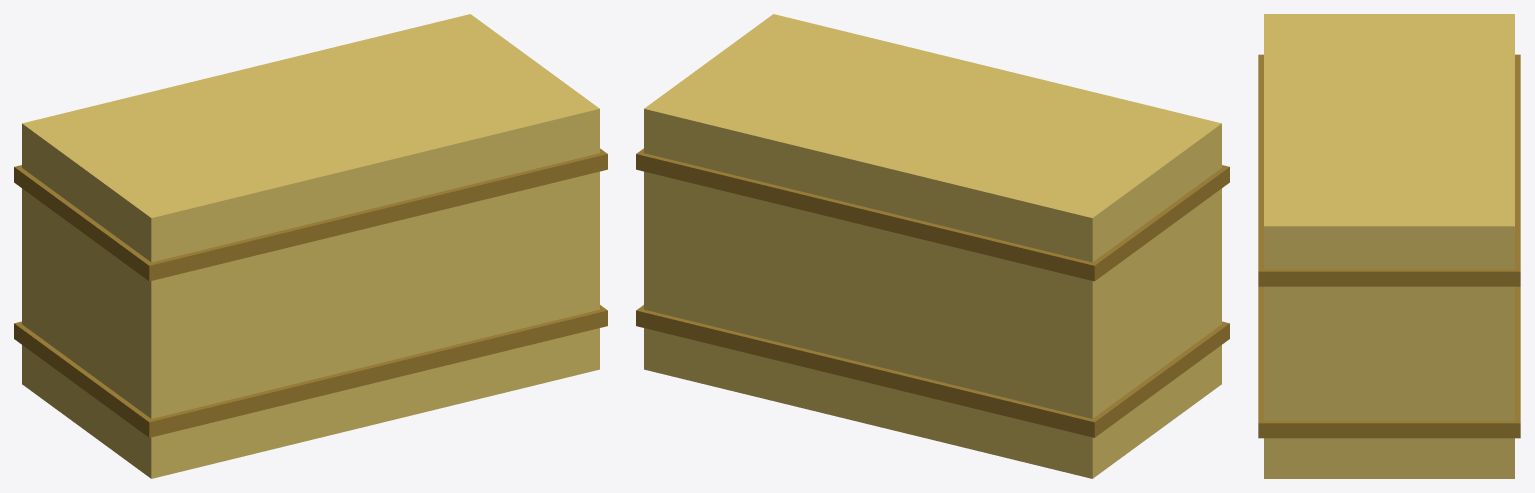
File: hay_bale.glb
3 renders of one model, left to right at view 1: azimuth 30°, elevation 25°; view 2: azimuth 150°, elevation 25°; view 3: azimuth 270°, elevation 25°, orthographic. The views are drawn at different scales.
Visible parts, largest first — view 1: hay_bale; view 2: hay_bale; view 3: hay_bale.
Boxes of the visible parts, <box> form: hay_bale: <box>14,14,607,478</box>; hay_bale: <box>636,14,1229,478</box>; hay_bale: <box>1258,14,1520,478</box>.
Size of what is drawn, in the model's own units: 0.92 by 0.5 by 0.47.
